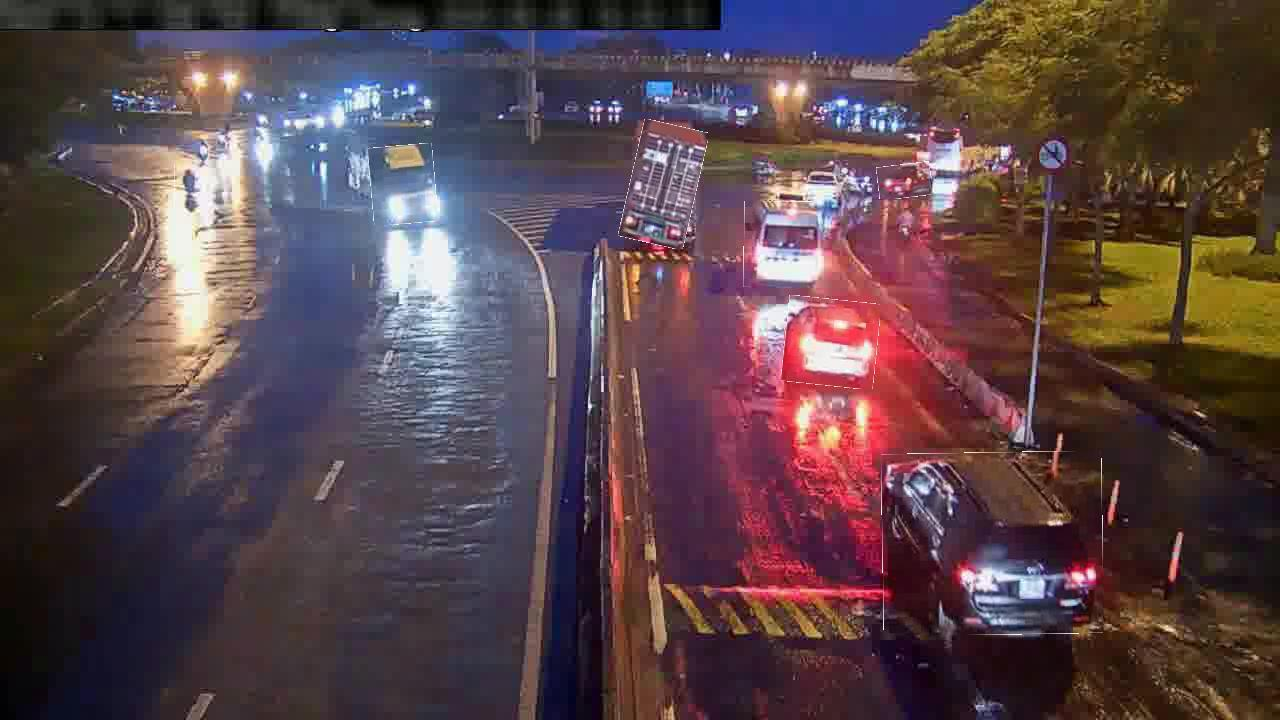14: (744, 202, 823, 288)
8: (625, 122, 703, 248), (370, 145, 437, 225)
container: (882, 452, 1104, 636), (783, 298, 879, 388), (877, 163, 932, 199)
motorbike: (174, 164, 199, 208)
